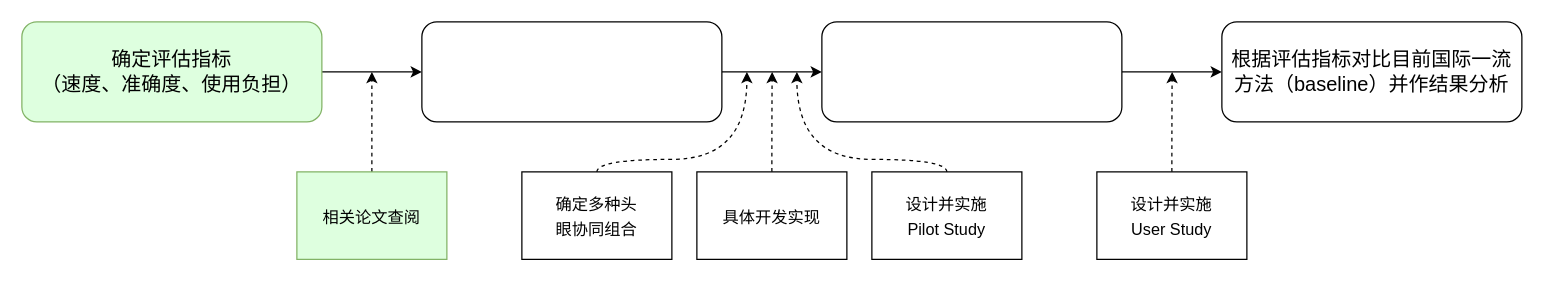
This 1544x281 diagram has some shape labels left out. Each missing label, with the centre of its shape:
"探索比较多种头 眼协同交互方法" goes at (571,71).
"确定一套高效易用的基于头眼协同的虚拟现实对象操纵方法 （支持位移、旋转和缩放）" goes at (971,71).
